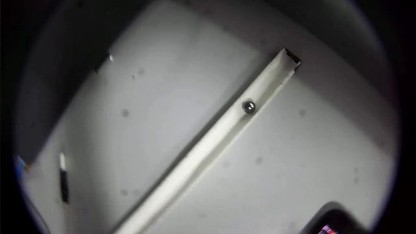gangzhu: (241, 99, 257, 113)
